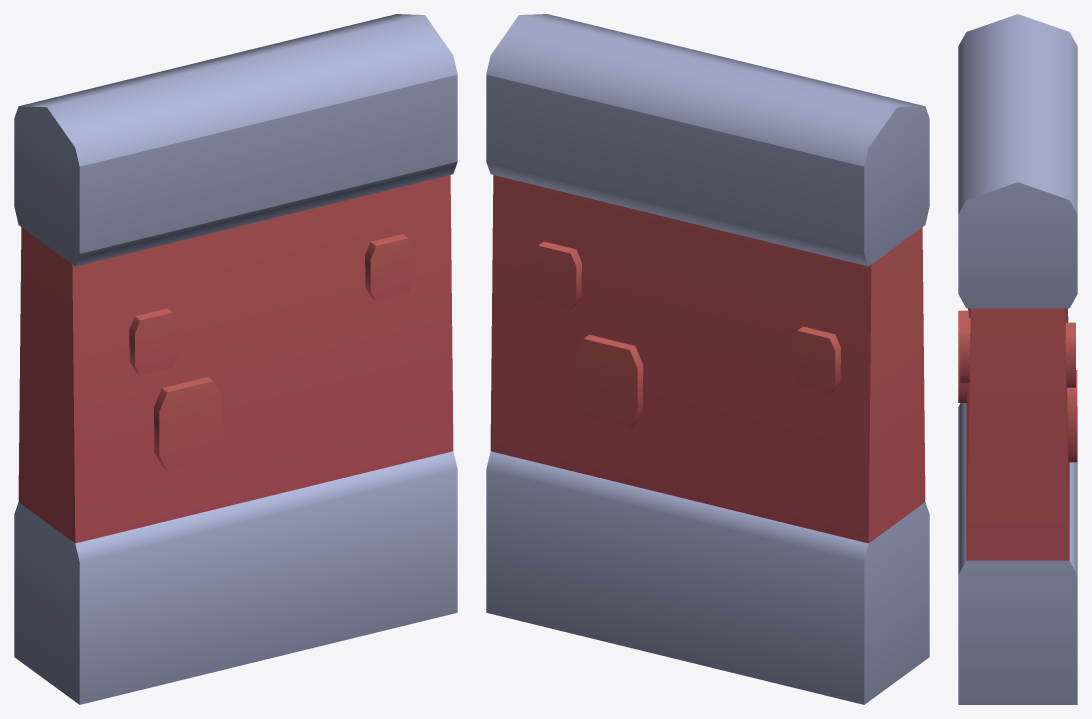
The model's file is brick-wall2.glb.
3 renders of one model, left to right at view 1: azimuth 30°, elevation 25°; view 2: azimuth 150°, elevation 25°; view 3: azimuth 270°, elevation 25°, orthographic. The views are drawn at different scales.
Visible parts, largest first — view 1: brick-wall; view 2: brick-wall; view 3: brick-wall.
Part boxes in pixels (x1,y1,x2,y2): brick-wall: (14, 14, 457, 704); brick-wall: (486, 14, 929, 704); brick-wall: (958, 14, 1077, 704).
Bounding box in the file's own units: 1 × 1.45 × 0.3.
1 material, 1 textured.
